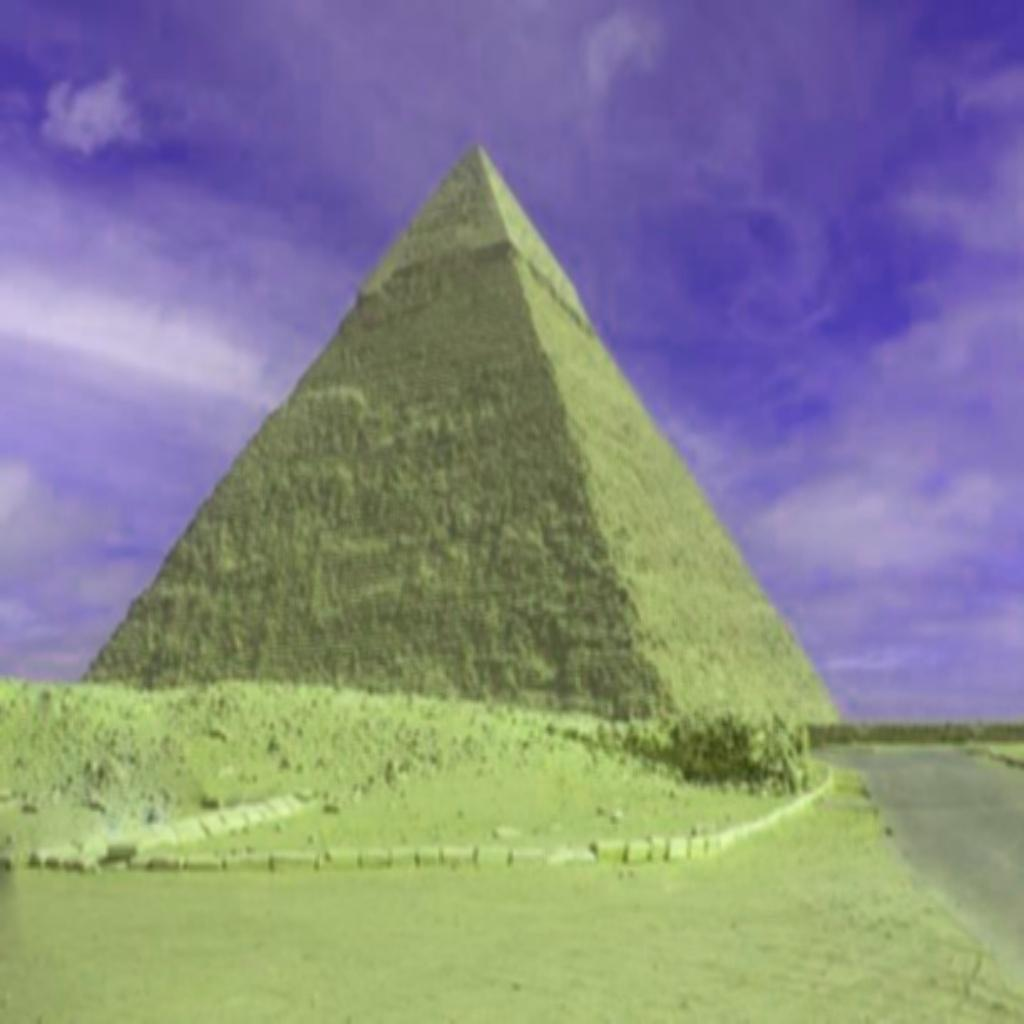Great Pyramids of Giza: (79, 136, 845, 736)
